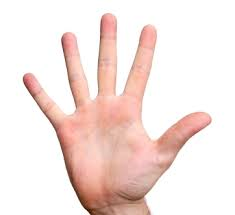palm: (19, 11, 216, 210)
